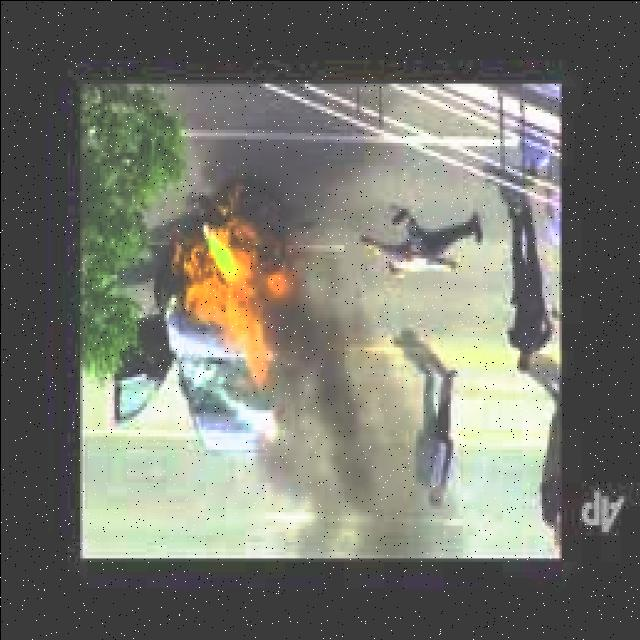api: (161, 173, 310, 357)
